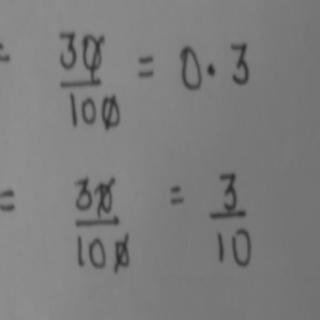.: (204, 62, 219, 78)
0: (180, 48, 201, 93), (81, 30, 103, 71), (230, 225, 250, 265), (90, 234, 110, 273), (81, 98, 96, 130)
1: (212, 230, 227, 267), (74, 232, 84, 271)
3: (227, 30, 252, 87), (55, 27, 80, 73), (216, 170, 243, 211), (74, 176, 93, 212)
